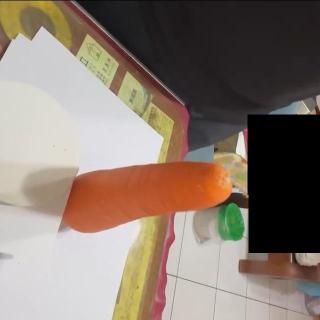carrot: (59, 159, 233, 234)
